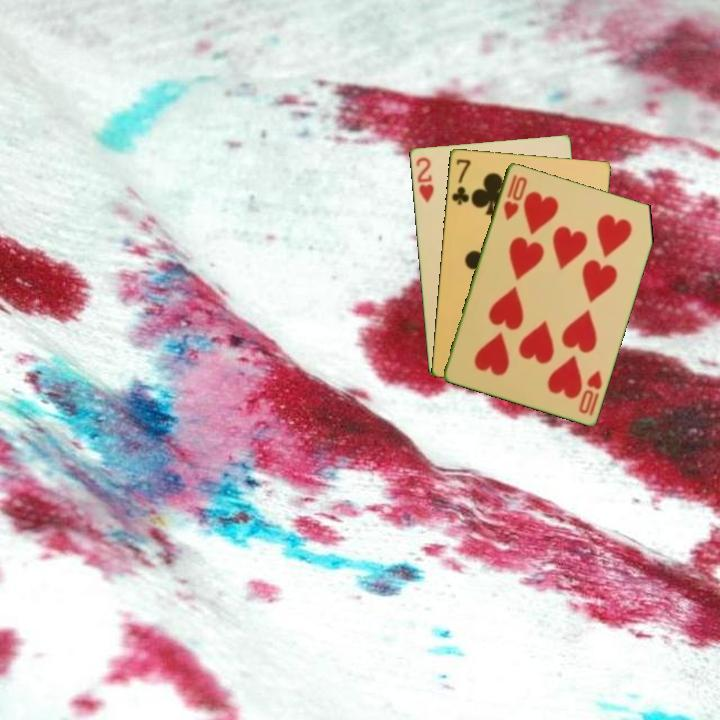10h: (499, 171, 530, 223), (575, 366, 605, 418)
2h: (412, 153, 436, 206)
7c: (448, 155, 473, 207)
